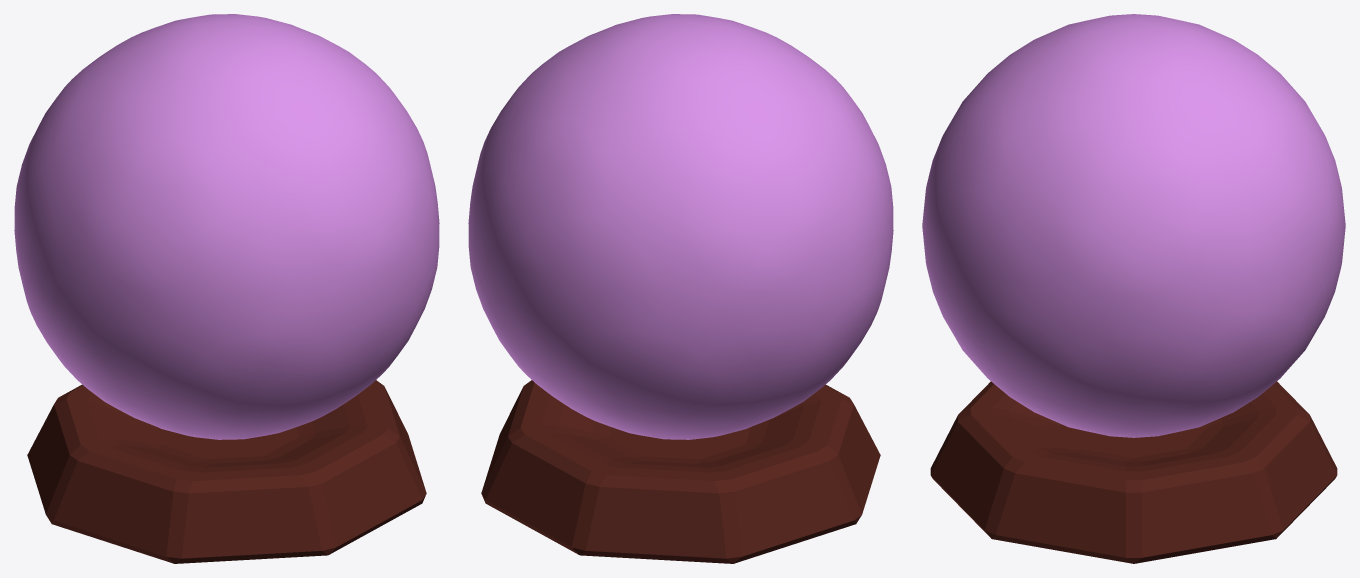
File: magic sphere.fbx
3 renders of one model, left to right at view 1: azimuth 30°, elevation 25°; view 2: azimuth 150°, elevation 25°; view 3: azimuth 270°, elevation 25°, orthographic.
Visible parts, largest first — view 1: Icosphere, Cylinder; view 2: Icosphere, Cylinder; view 3: Icosphere, Cylinder.
Boxes of the visible parts, x1=… form: Icosphere: x1=14, y1=14, x2=439, y2=439; Cylinder: x1=27, y1=380, x2=426, y2=563; Icosphere: x1=468, y1=14, x2=893, y2=439; Cylinder: x1=481, y1=380, x2=880, y2=563; Icosphere: x1=922, y1=14, x2=1345, y2=437; Cylinder: x1=930, y1=381, x2=1337, y2=563.
Size of the model in its own units: 249 by 290 by 249.
